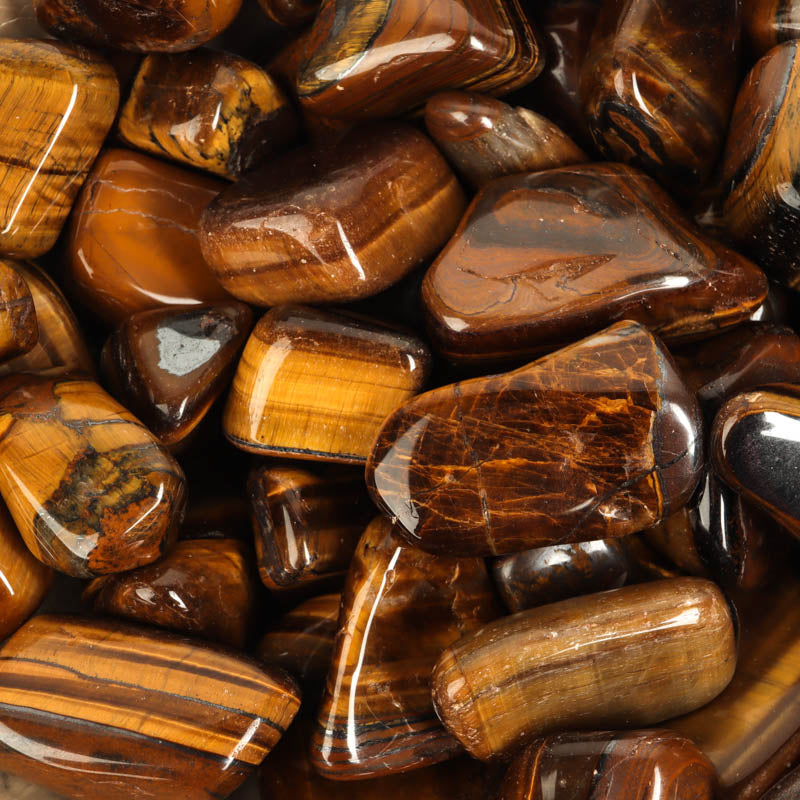Tigers_Eye: (418, 160, 774, 361), (429, 578, 756, 760), (4, 361, 194, 576), (221, 297, 427, 466)
